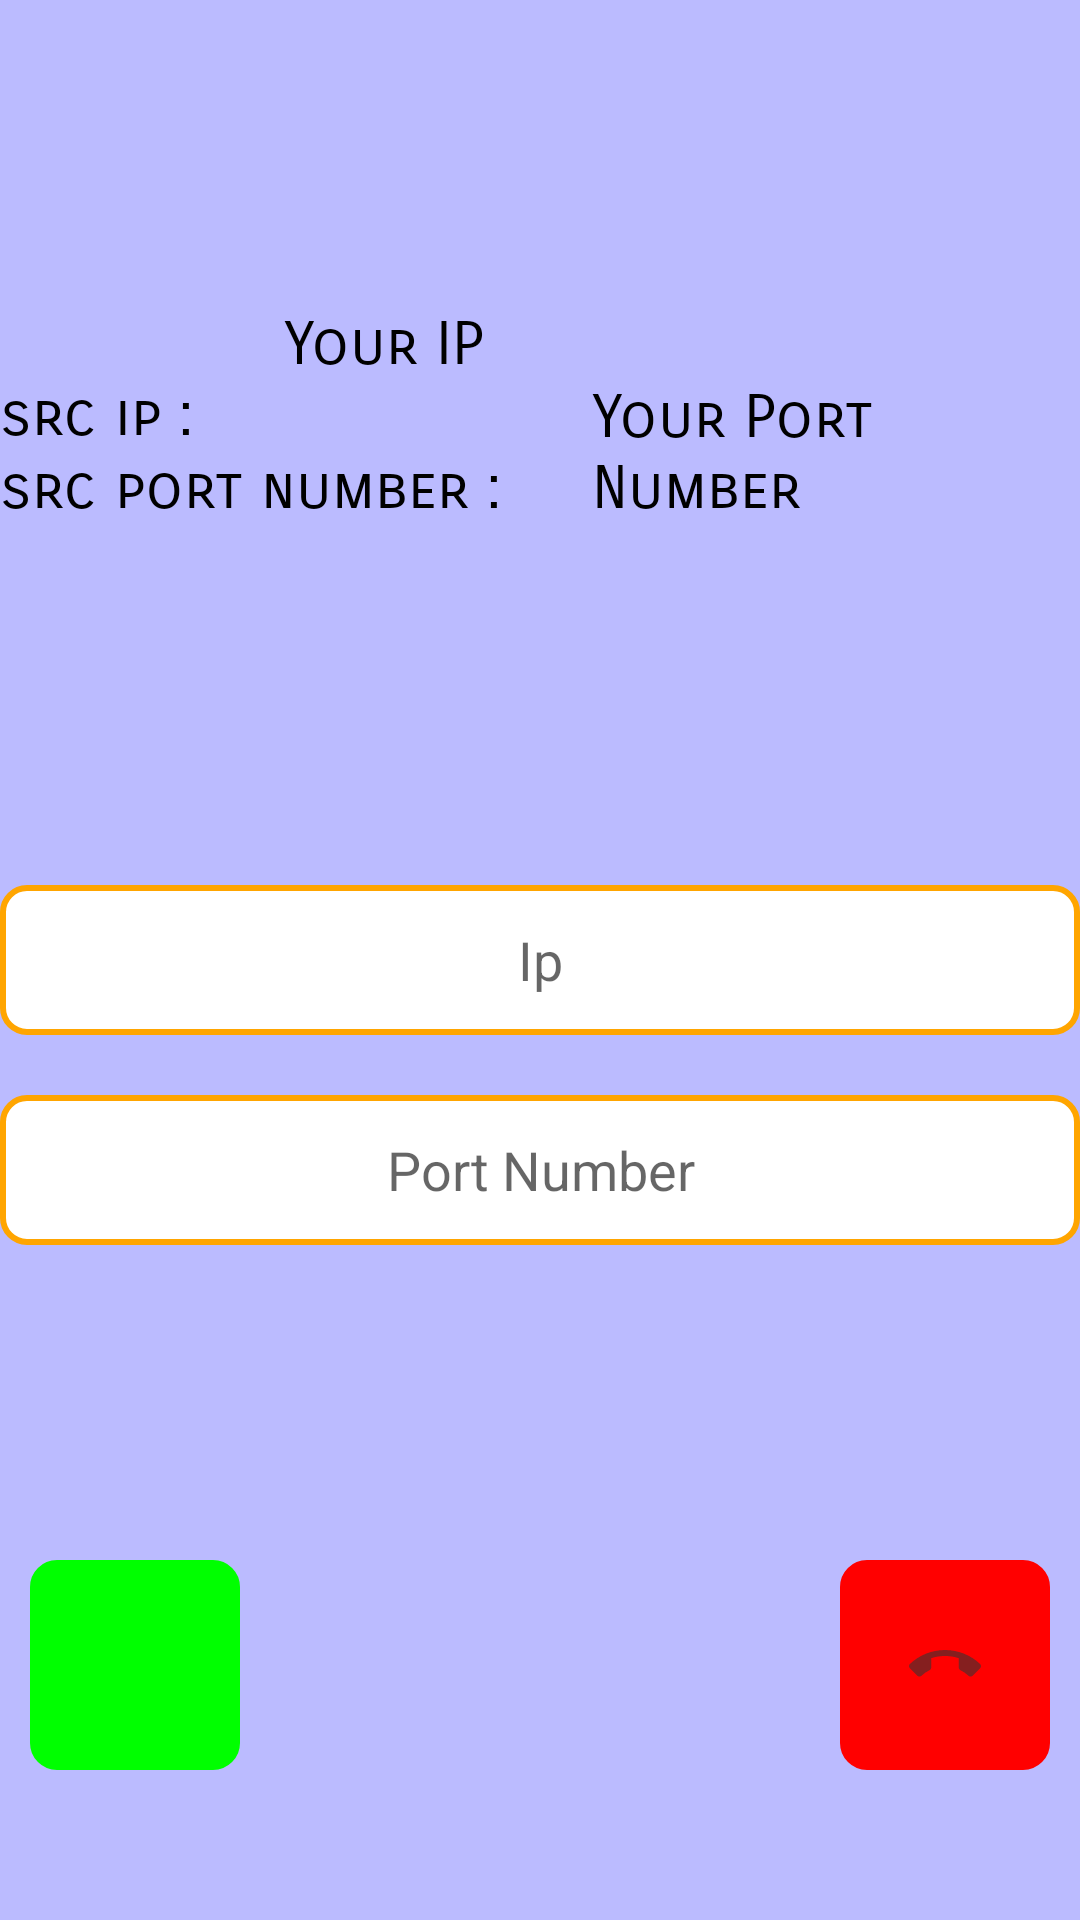

Where to tap for icons on this 1080×1920 app screen, as (x=x, y=y):
end: (x=945, y=1665)
